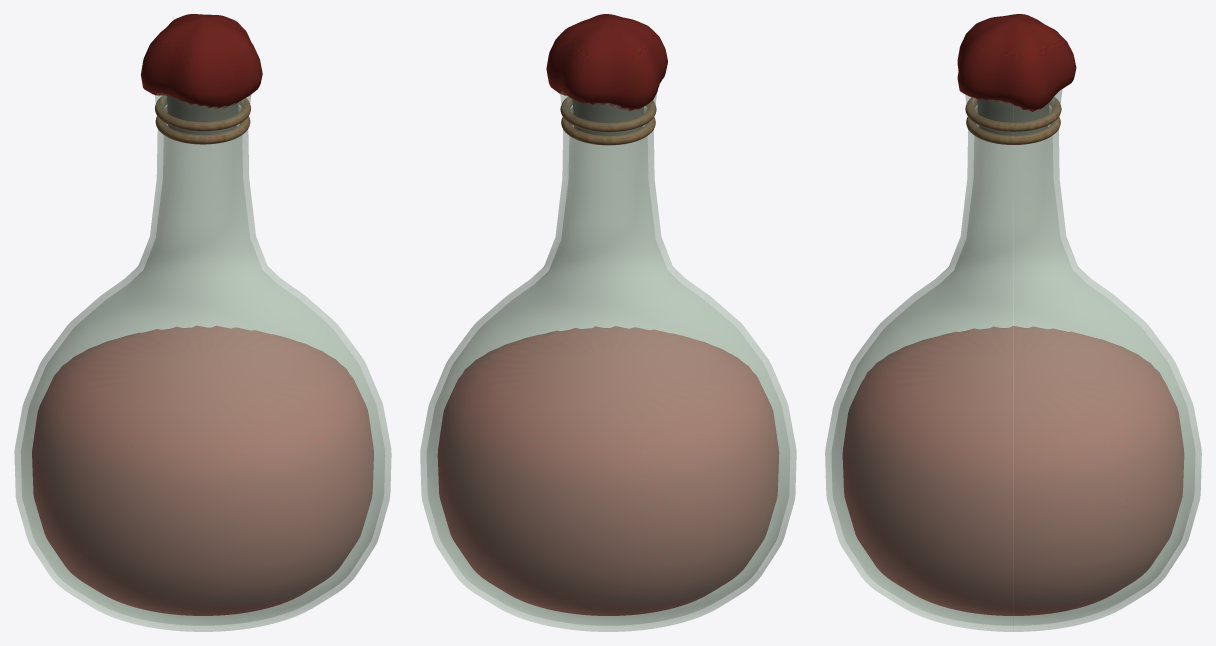
File: flask.glb
3 views of the same model, side by side, from view 1: azimuth 30°, elevation 25°; view 2: azimuth 150°, elevation 25°; view 3: azimuth 270°, elevation 25° (orthographic).
Visible parts, largest first — view 1: glass, flask; view 2: glass, flask; view 3: glass, flask.
Boxes of the visible parts, x1,y1,x2,y2 form: glass: [14, 93, 391, 631]; flask: [32, 14, 373, 615]; glass: [420, 91, 796, 631]; flask: [437, 14, 779, 615]; glass: [825, 89, 1201, 631]; flask: [842, 14, 1184, 615].
Bounding box in the file's own units: 0.1026 × 0.1738 × 0.1026.
Materials: 2 (1 with a texture image).
